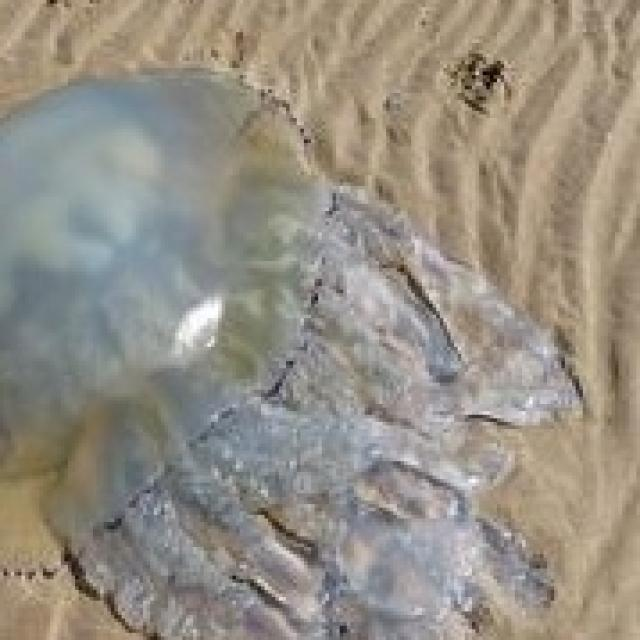Moon-jellyfish: (0, 39, 586, 636)
